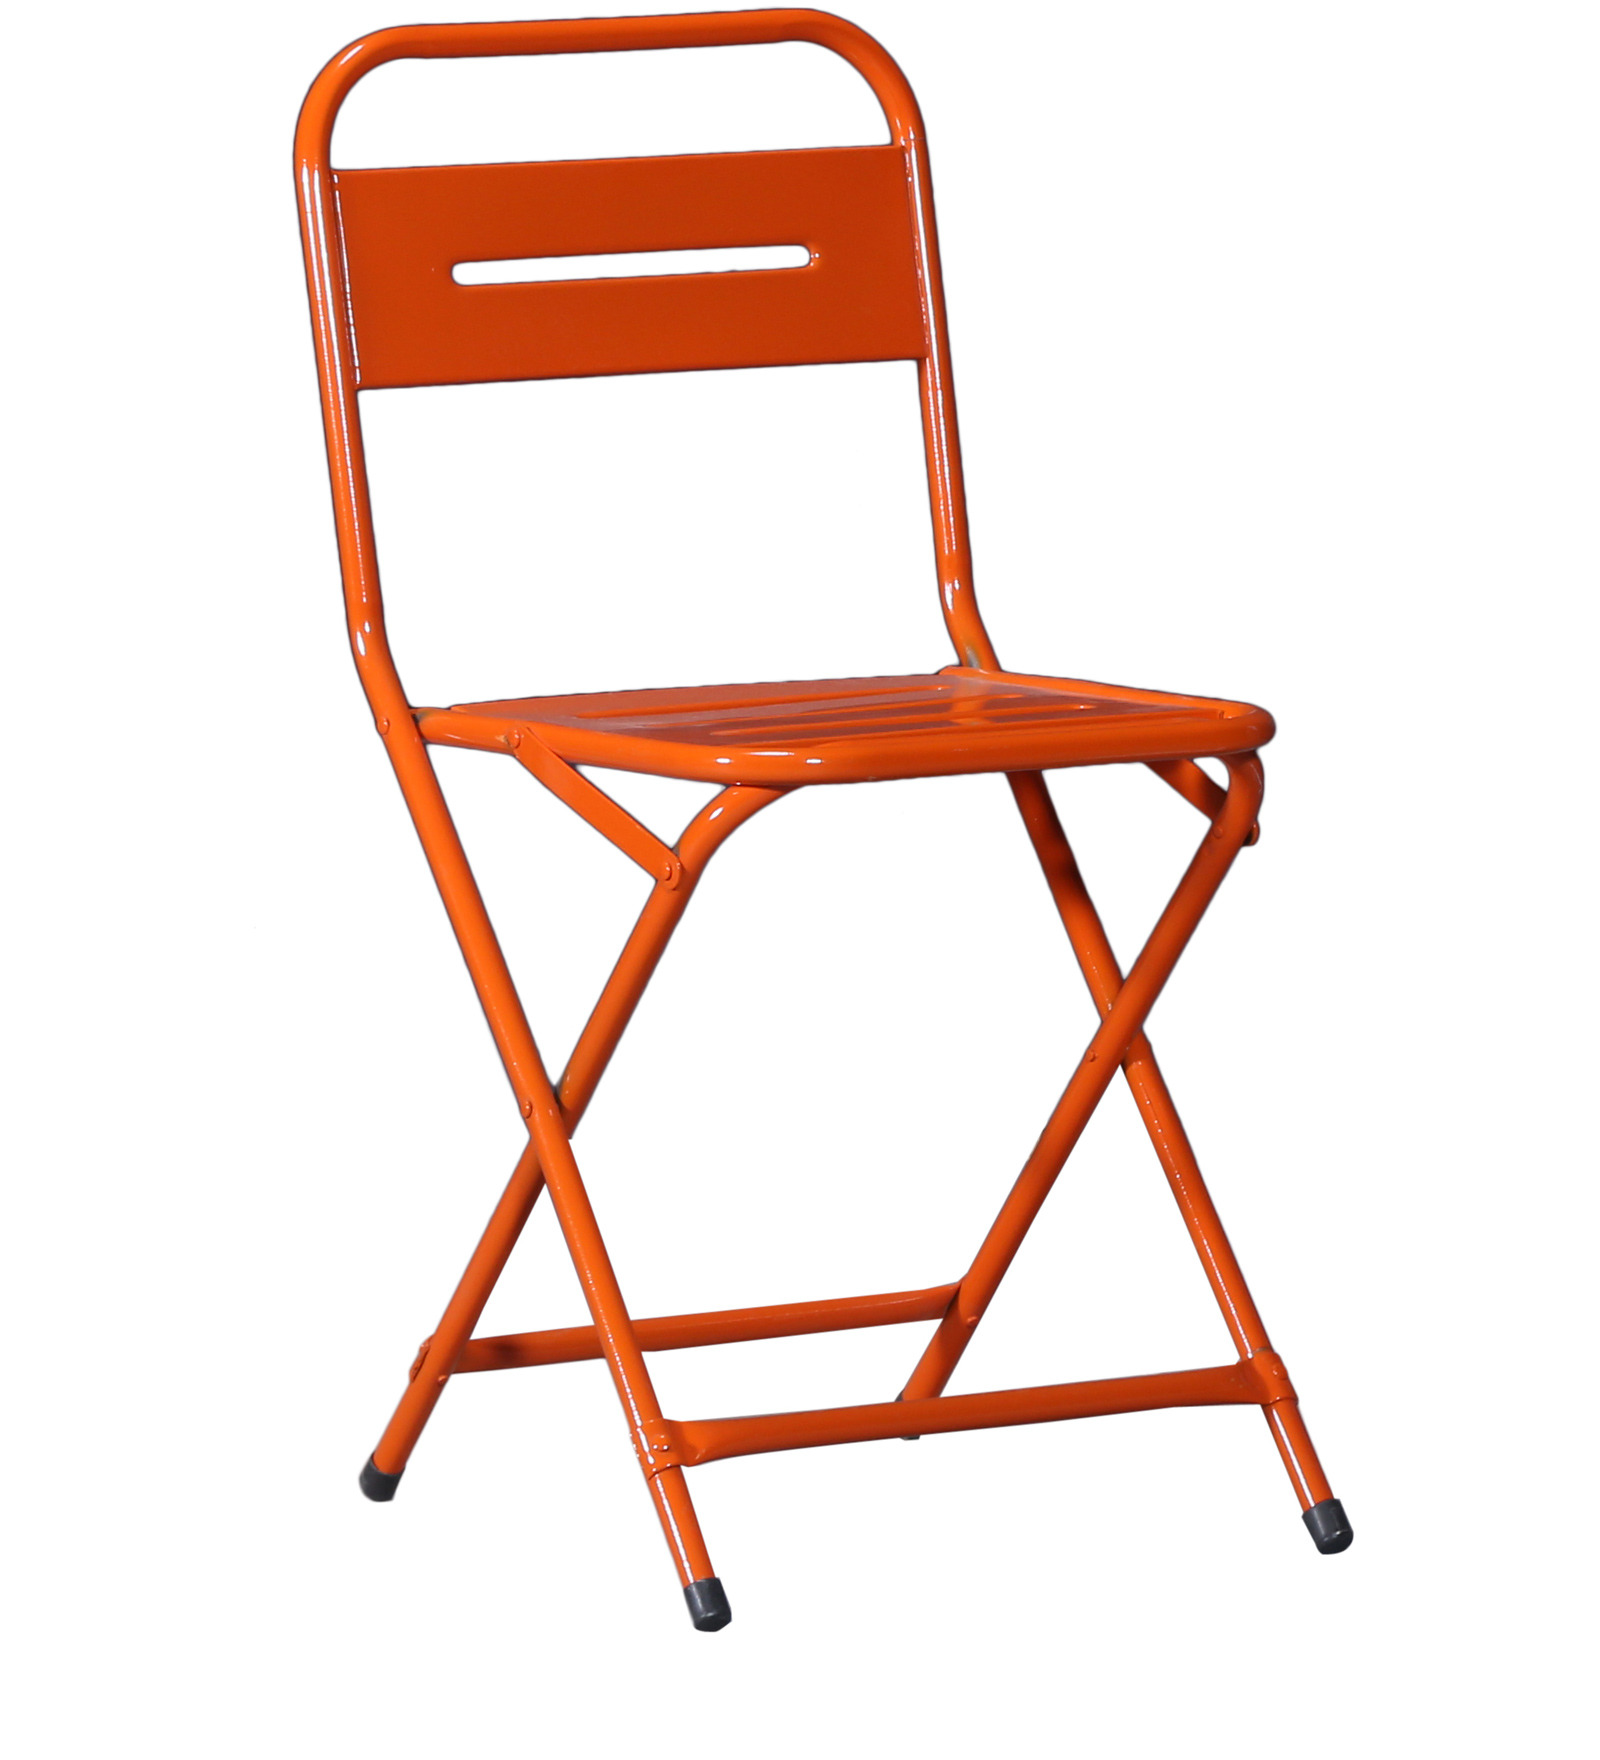Marandoo Grunge Orange Outdoor Folding Chair by Bohemiana: (290, 12, 1379, 1633)
